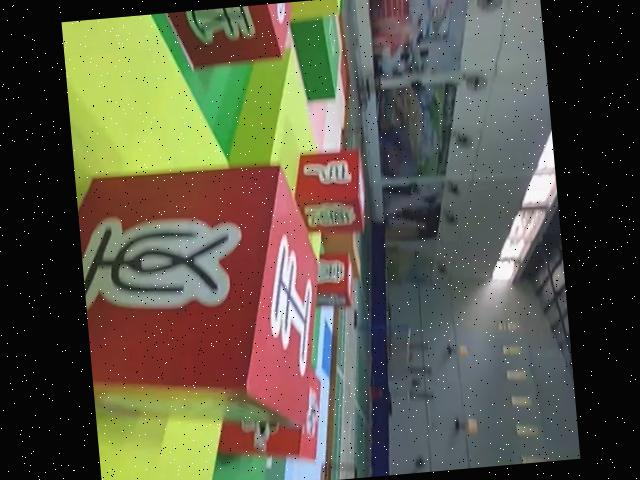R1: (210, 363, 330, 470)
R2 Fake: (74, 157, 335, 446), (289, 145, 369, 235), (307, 249, 359, 310)
R2 Real: (149, 2, 298, 76)
